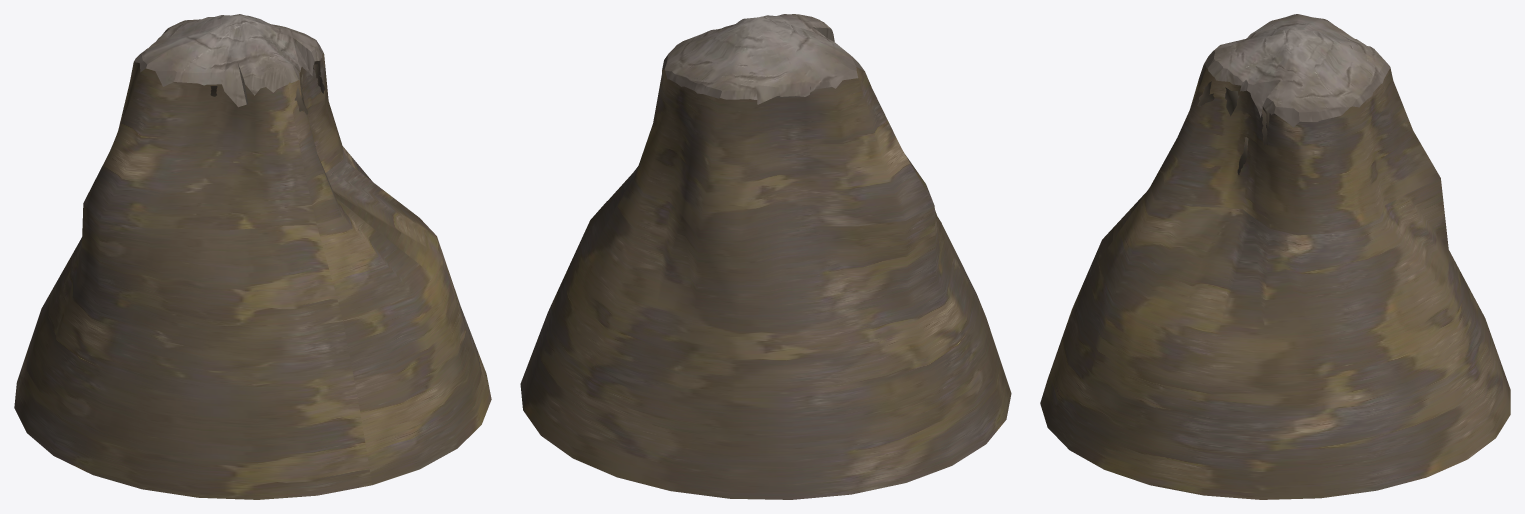
3 views of the same model, side by side, from view 1: azimuth 30°, elevation 25°; view 2: azimuth 150°, elevation 25°; view 3: azimuth 270°, elevation 25° (orthographic). The views are drawn at different scales.
Parts seen in each view (by area): view 1: SM_Yew_03_stump_LOD0; view 2: SM_Yew_03_stump_LOD0; view 3: SM_Yew_03_stump_LOD0.
Boxes of the visible parts, x1,y1,x2,y2 form: SM_Yew_03_stump_LOD0: (14,14,491,499); SM_Yew_03_stump_LOD0: (520,14,1011,499); SM_Yew_03_stump_LOD0: (1040,14,1510,499).
Size of the model in its own units: 2.07 by 1.81 by 2.07.
Materials: 1 (1 with a texture image).
